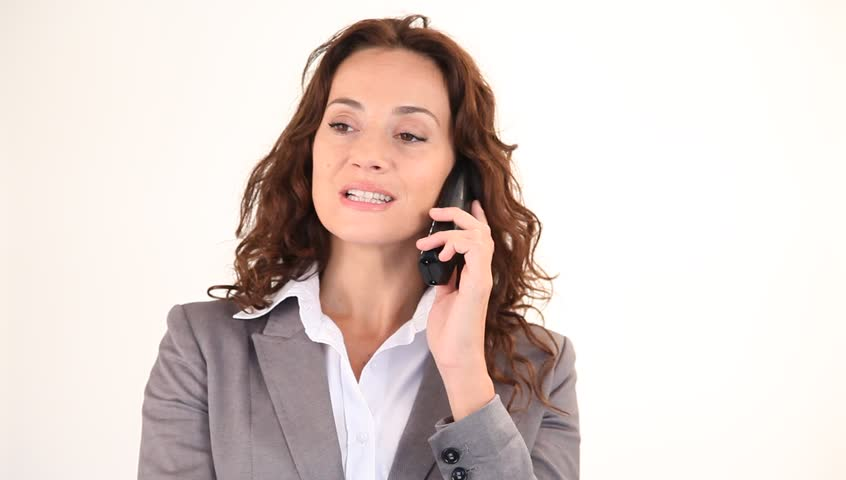phone: (411, 160, 495, 303)
talk: (315, 89, 505, 363)
